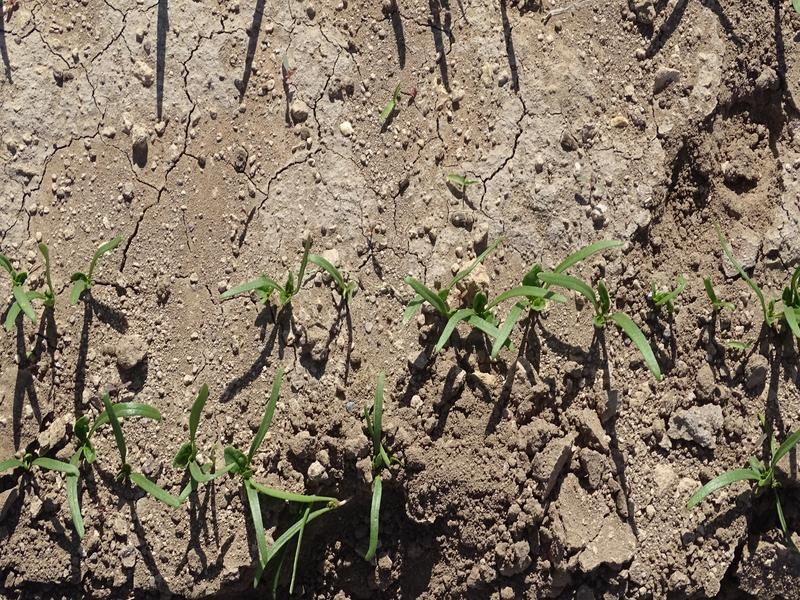Espinaca: (29, 368, 388, 548), (401, 242, 664, 372), (1, 237, 127, 323), (677, 429, 798, 508), (235, 240, 352, 311), (721, 239, 800, 338)
